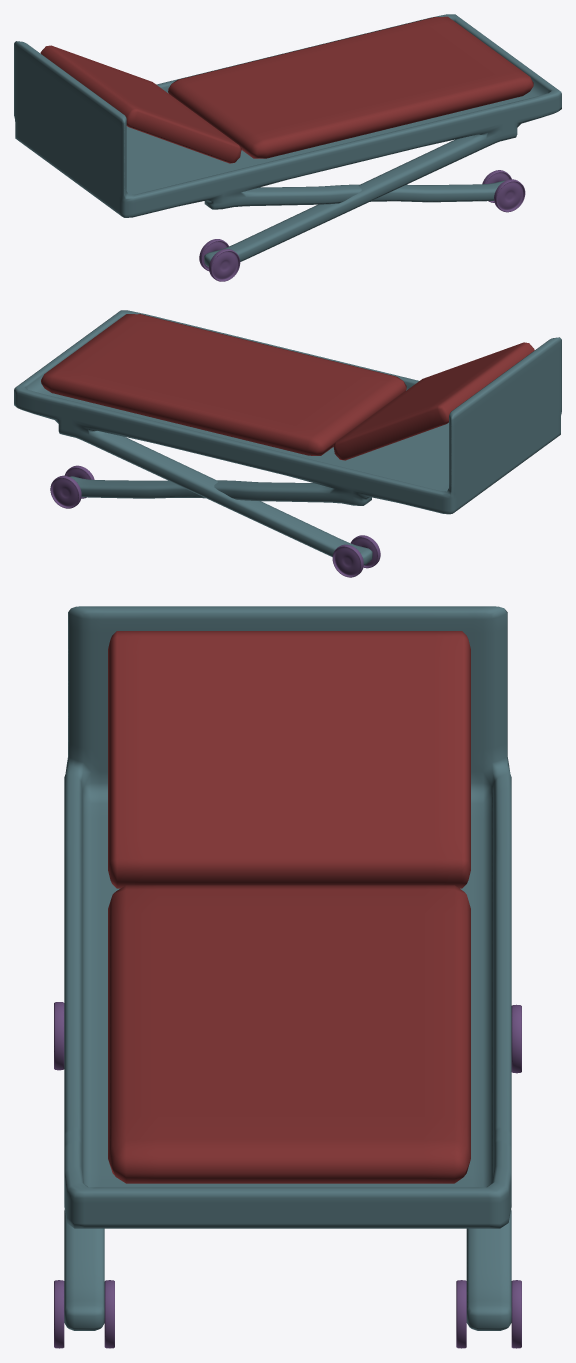
The model's file is MedicalBed.fbx.
3 views of the same model, one above another, from view 1: azimuth 30°, elevation 25°; view 2: azimuth 150°, elevation 25°; view 3: azimuth 270°, elevation 25° (orthographic). The views are drawn at different scales.
Visible parts, largest first — view 1: MedicalBed (×3); view 2: MedicalBed (×3); view 3: MedicalBed (×3).
Part boxes in pixels (<box>): MedicalBed (×3): <box>14,14,561,281</box>; MedicalBed (×3): <box>14,310,561,577</box>; MedicalBed (×3): <box>54,606,521,1348</box>.
Size of the model in its own units: 7.7 by 3.06 by 3.54.
